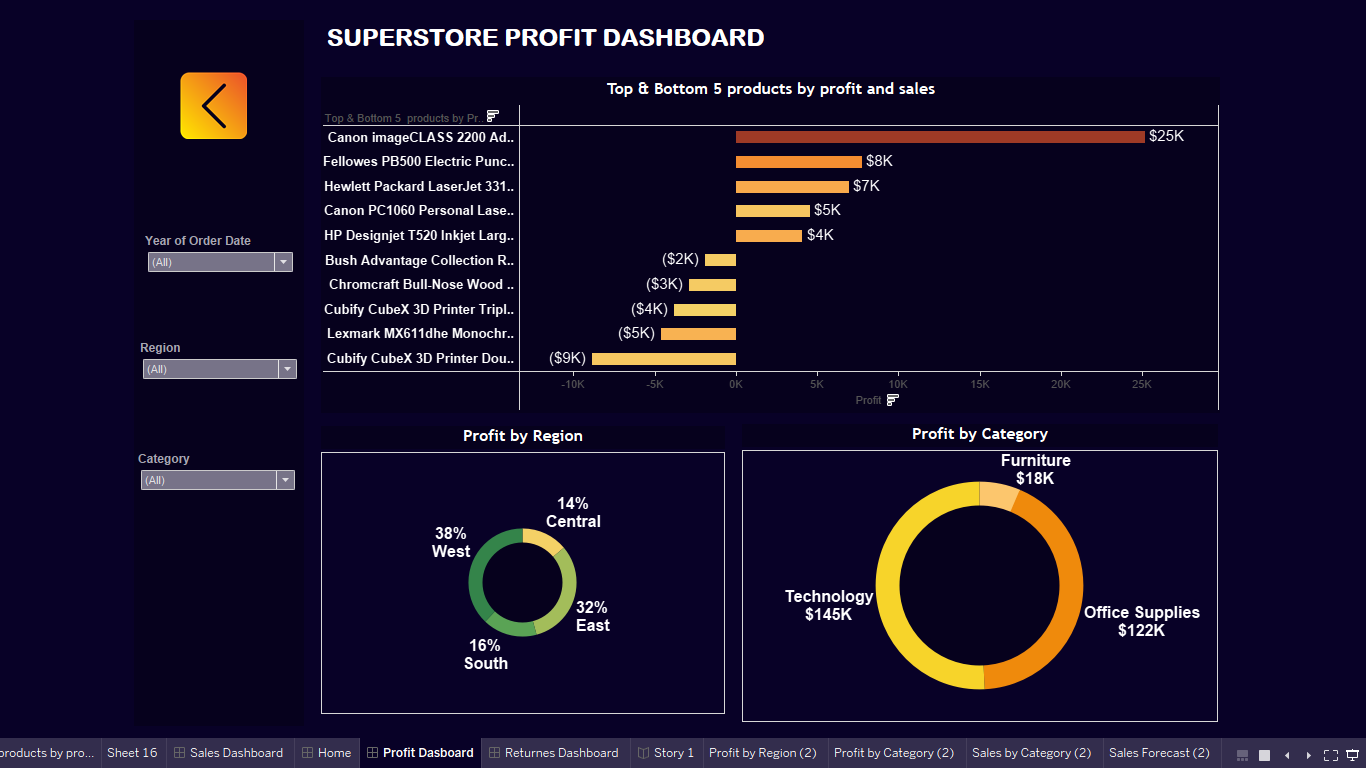

The dashboard page shown, as its layout file describes it:
{"tool":"tableau","page":{"name":"Profit Dasboard","canvas":[1000,1000],"units":"permille","ordinal":1},"visuals":[{"type":"text","box":[174.1,18.6,708.8,64.3]},{"type":"blank","box":[0.9,27.1,154.6,957.1]},{"type":"worksheet","title":"Top & Bottom 5 products by profit and sales","mark":"Automatic","cols":["Profit"],"box":[170.7,104.3,818,455.7]},{"type":"filter","title":"Profit by Region","param":"[federated.1nt41m31yygy8h1fomfcy156nn6u].[yr:Order Date:ok]","box":[11.2,317.1,137.6,172.9]},{"type":"filter","title":"Profit by Region","param":"[federated.1nt41m31yygy8h1fomfcy156nn6u].[none:Region:nk]","box":[6.4,461.4,145.5,62.9]},{"type":"worksheet","title":"Profit by Category","mark":"Pie","rows":["Calculation_42502759389544452","Calculation_42502759387111425"],"box":[553.6,574.3,432.7,404.3]},{"type":"worksheet","title":"Profit by Region","mark":"Pie","rows":["Calculation_42502759431352328","Calculation_42502759431438347"],"box":[170.9,577.1,367.3,401.4]},{"type":"filter","title":"Profit by Category","param":"[federated.1nt41m31yygy8h1fomfcy156nn6u].[none:Category:nk]","box":[4.5,612.9,145.5,142.9]}]}

Visuals, with their boxes on the dashboard's canvas, which has no fixed pixel size, in thousandths of its width and height (x1, y1, x2, y2). These are canvas units, not pixel positions in the 1366x768 screenshot, which may show the page scaled, cropped or inside an application window:
text: box=[174, 19, 883, 83]
blank: box=[1, 27, 156, 984]
"Top & Bottom 5 products by profit and sales" worksheet: box=[171, 104, 989, 560]
"Profit by Region" filter: box=[11, 317, 149, 490]
"Profit by Region" filter: box=[6, 461, 152, 524]
"Profit by Category" worksheet (Pie marks): box=[554, 574, 986, 979]
"Profit by Region" worksheet (Pie marks): box=[171, 577, 538, 978]
"Profit by Category" filter: box=[4, 613, 150, 756]
